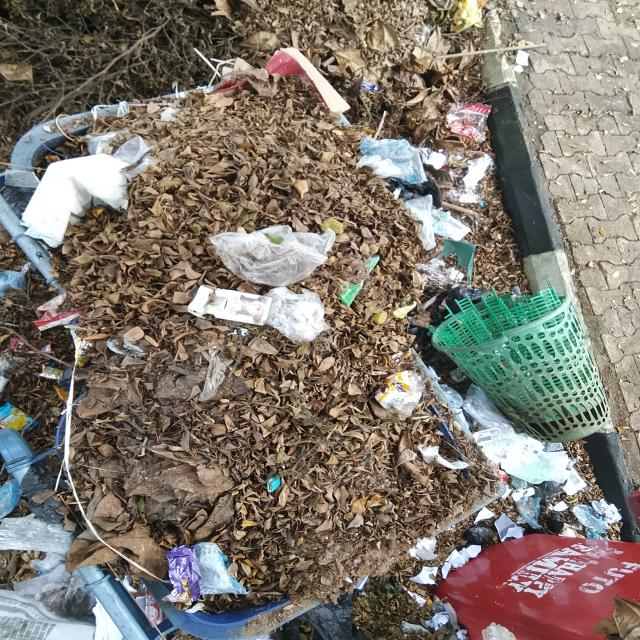full: (5, 80, 462, 352), (41, 370, 477, 638)
